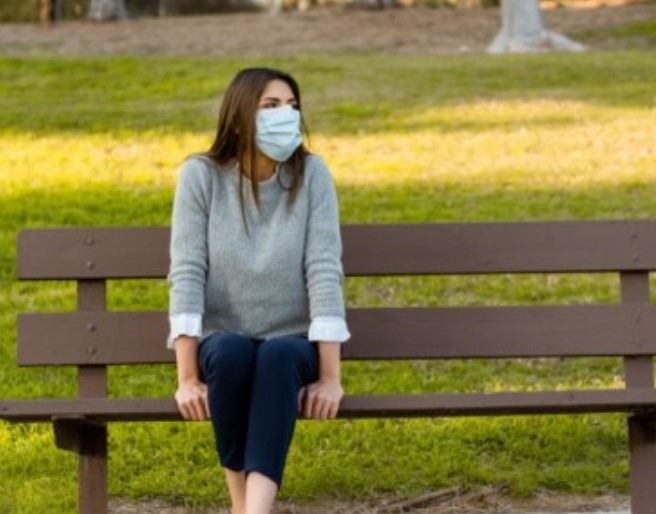face_with_mask: (228, 67, 305, 169)
